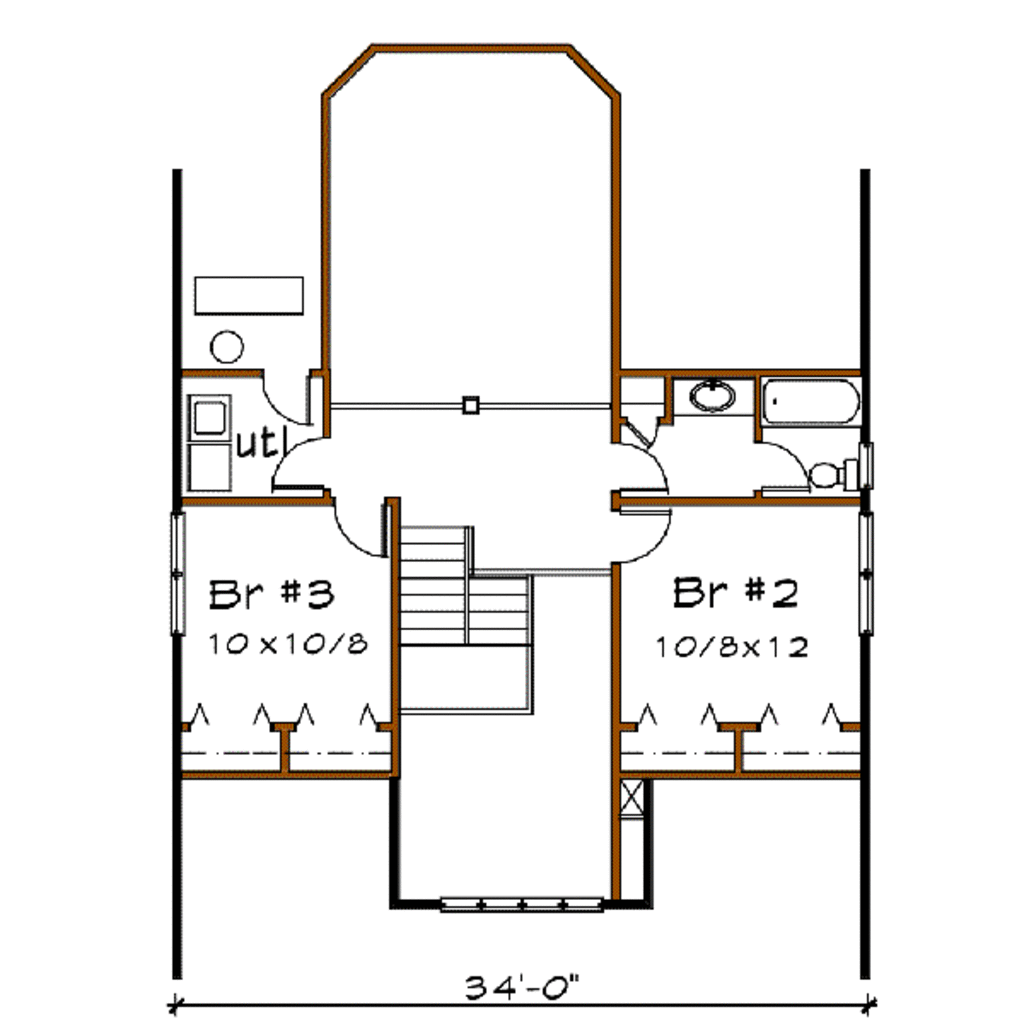door: (327, 500, 394, 567), (267, 439, 341, 494), (616, 502, 672, 571), (261, 367, 323, 424), (605, 438, 670, 492), (753, 438, 808, 500)
large_sink: (806, 444, 866, 496)
small_sink: (670, 375, 747, 417)
stairs: (397, 508, 552, 730)
tub: (761, 375, 864, 424)
window: (434, 891, 611, 922), (855, 508, 878, 639), (173, 508, 183, 632)
